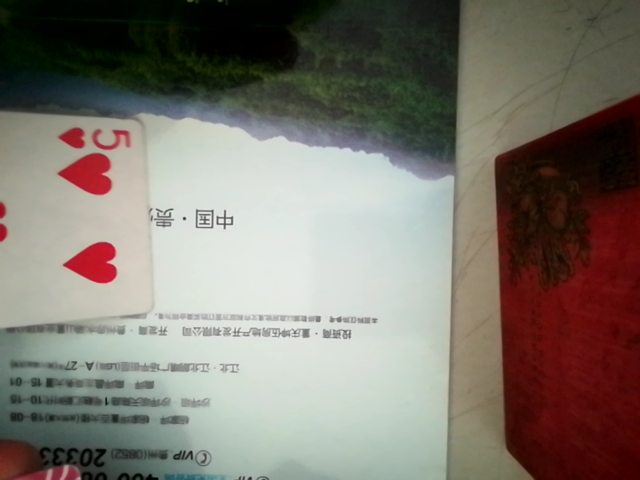hx 5: (2, 111, 154, 328)
